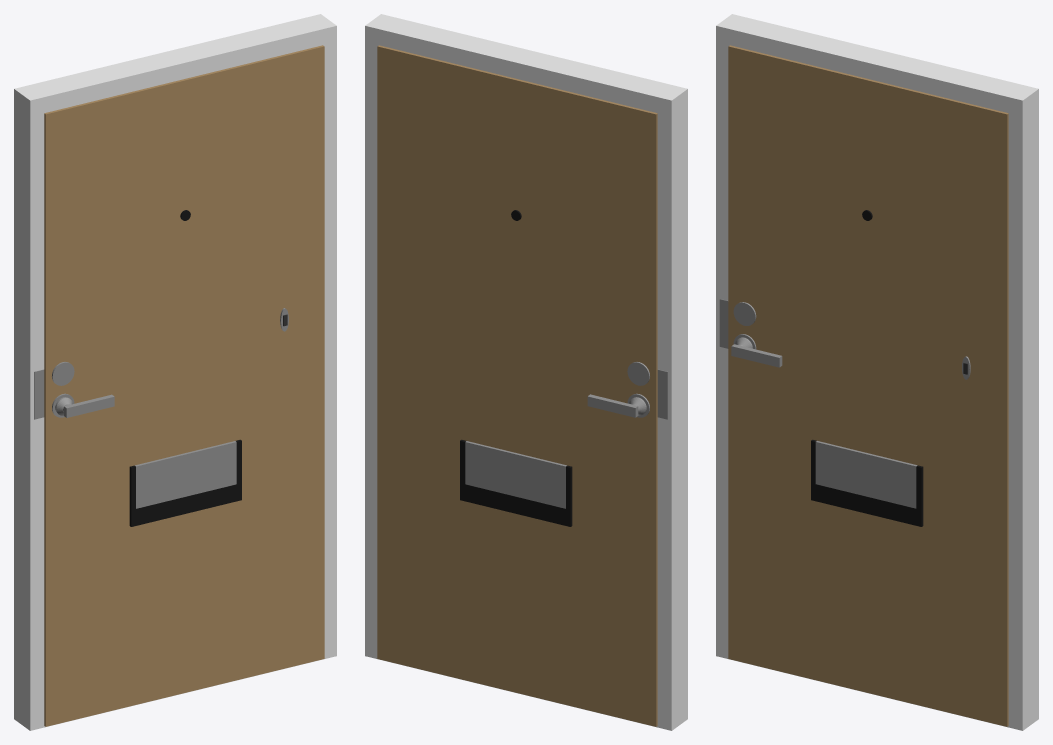
File: frontdoor.fbx
3 views of the same model, side by side, from view 1: azimuth 30°, elevation 25°; view 2: azimuth 150°, elevation 25°; view 3: azimuth 330°, elevation 25° (orthographic).
Parts seen in each view (by area): view 1: ulko-ovi, karmit, postiluukku, kahva, lukkopesä; view 2: ulko-ovi, karmit, postiluukku, kahva, lukkopesä; view 3: ulko-ovi, karmit, postiluukku, kahva.
Boxes of the visible parts, x1,y1,x2,y2 form: ulko-ovi: (44,45,324,726); karmit: (14,14,336,730); postiluukku: (129,439,241,526); kahva: (52,393,114,417); lukkopesä: (34,369,44,419); ulko-ovi: (377,45,657,726); karmit: (365,14,687,730); postiluukku: (460,439,572,526); kahva: (587,393,649,417); lukkopesä: (657,369,667,419); ulko-ovi: (728,45,1008,726); karmit: (716,14,1038,730); postiluukku: (811,439,923,526); kahva: (731,334,782,367).
Bounding box in the file's own units: 1.1 × 2.16 × 0.2296.
